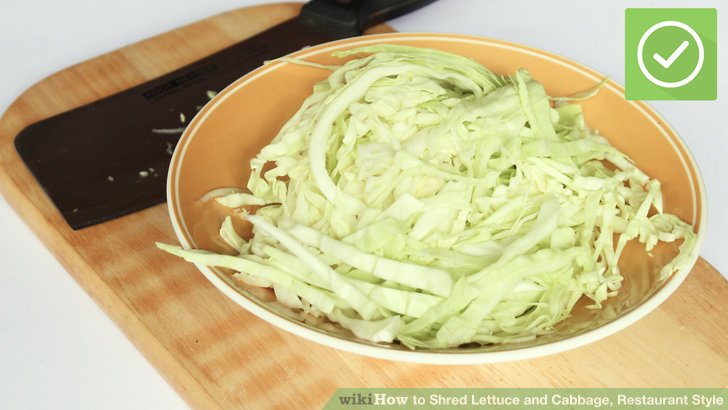chopped lettuce: (285, 93, 603, 325)
